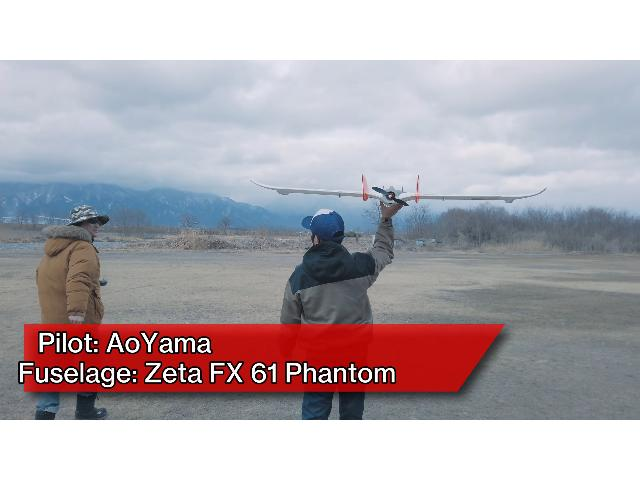Anti-Drone: (242, 170, 550, 206)
